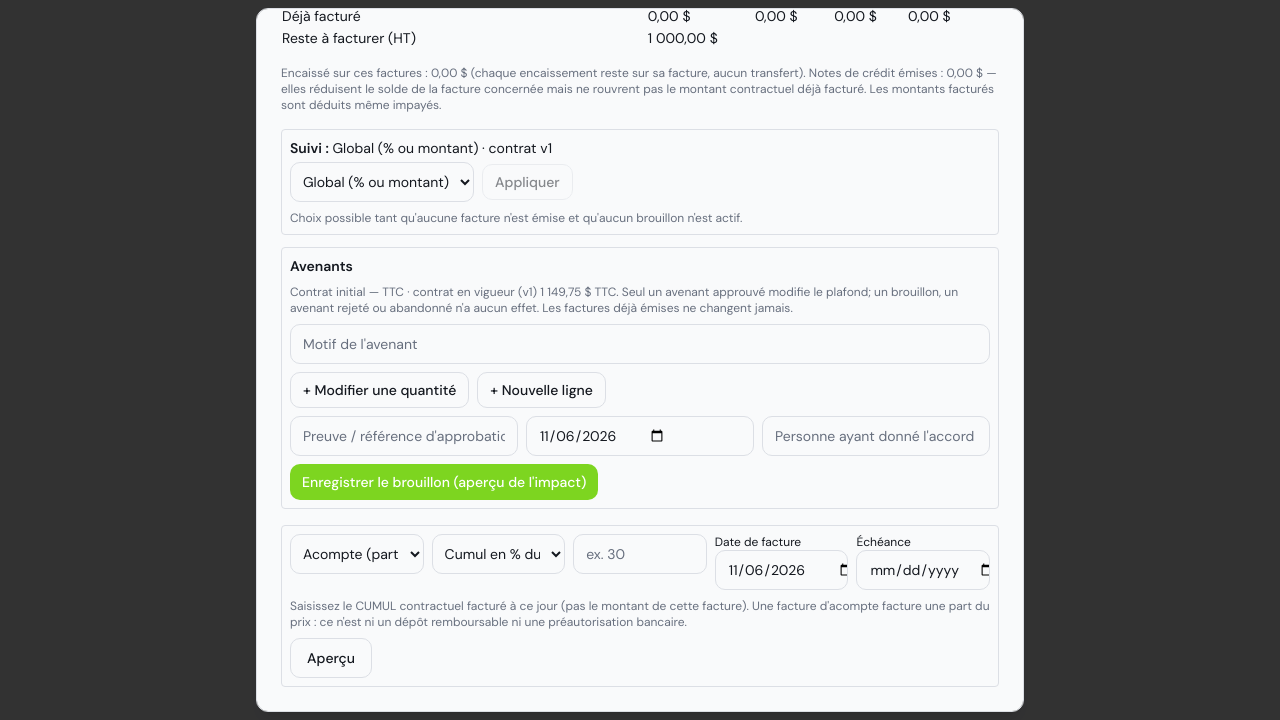
Test: FIN-09B1 — aperçu et émission › conflit P0409 : message, aperçu retiré, aucune émission automatique
The image size is (1280, 720).
(page scrolled)
Type "30" into the field named "Cumul contractuel" at (640, 554), box [573,534,707,574]
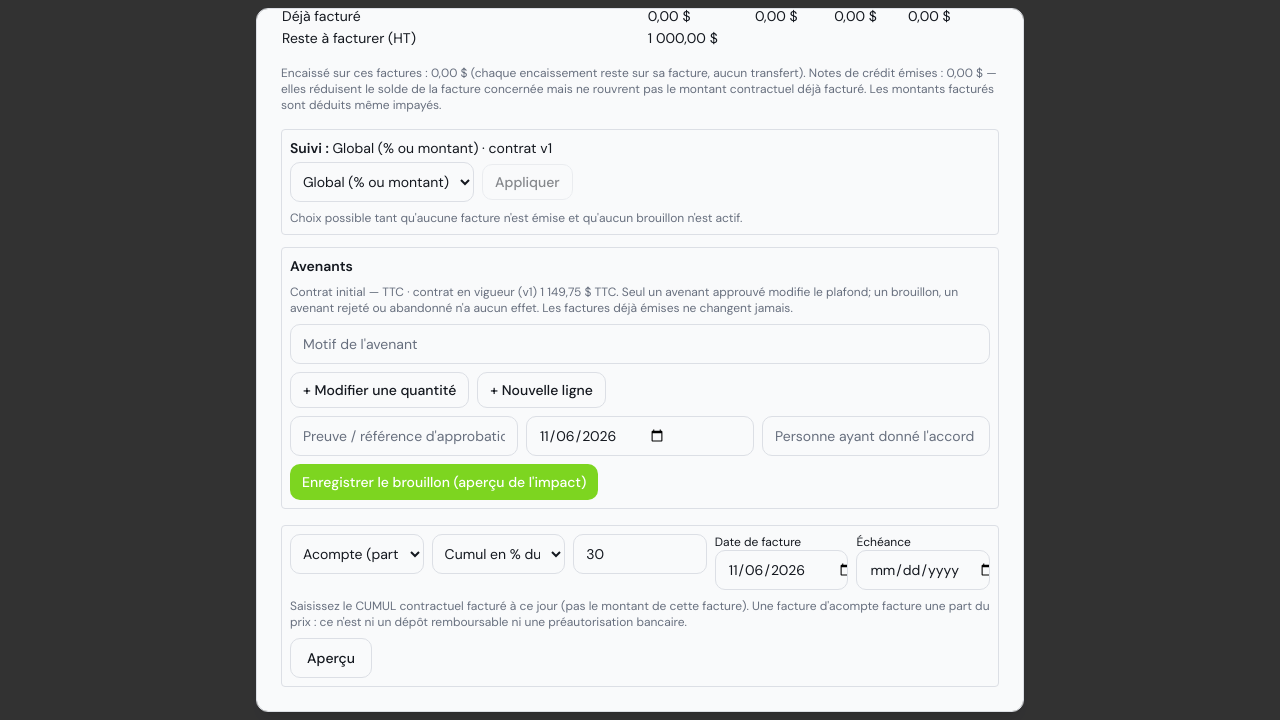
Click the button "Aperçu" at (331, 658), box [290,638,372,678]
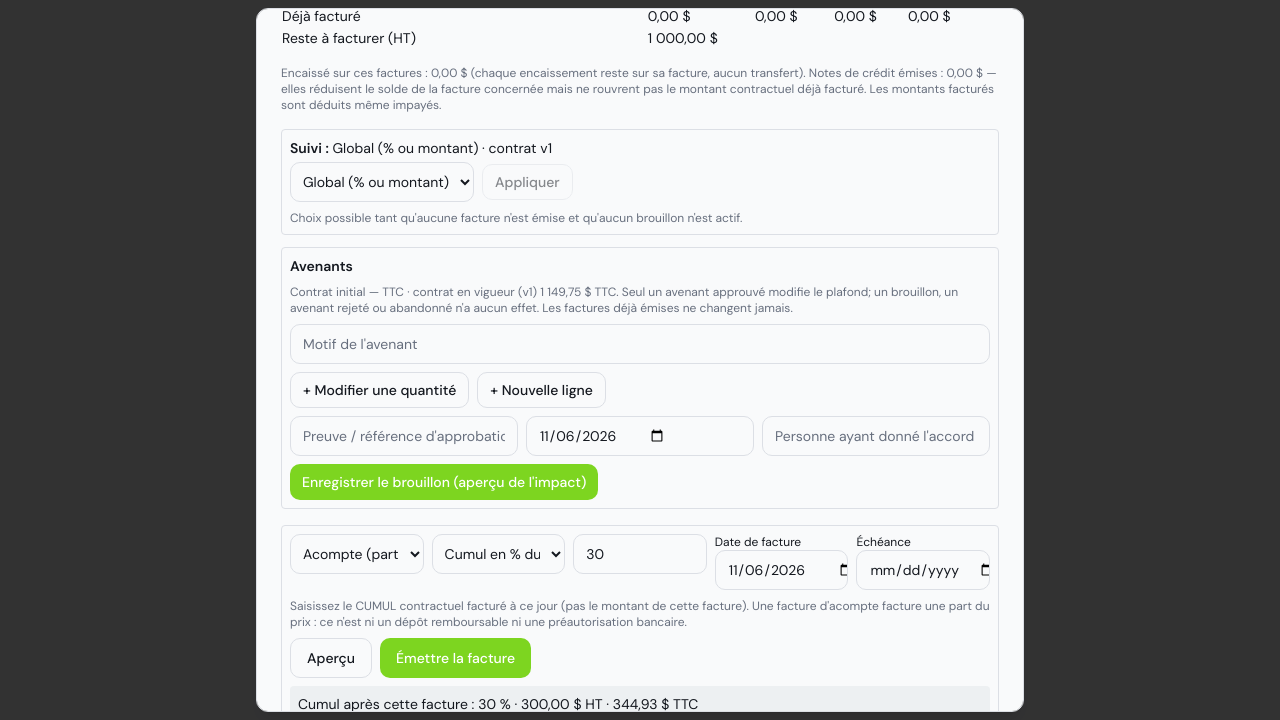
Click the button "Émettre la facture" at (456, 658), box [380,638,531,678]
(page scrolled)
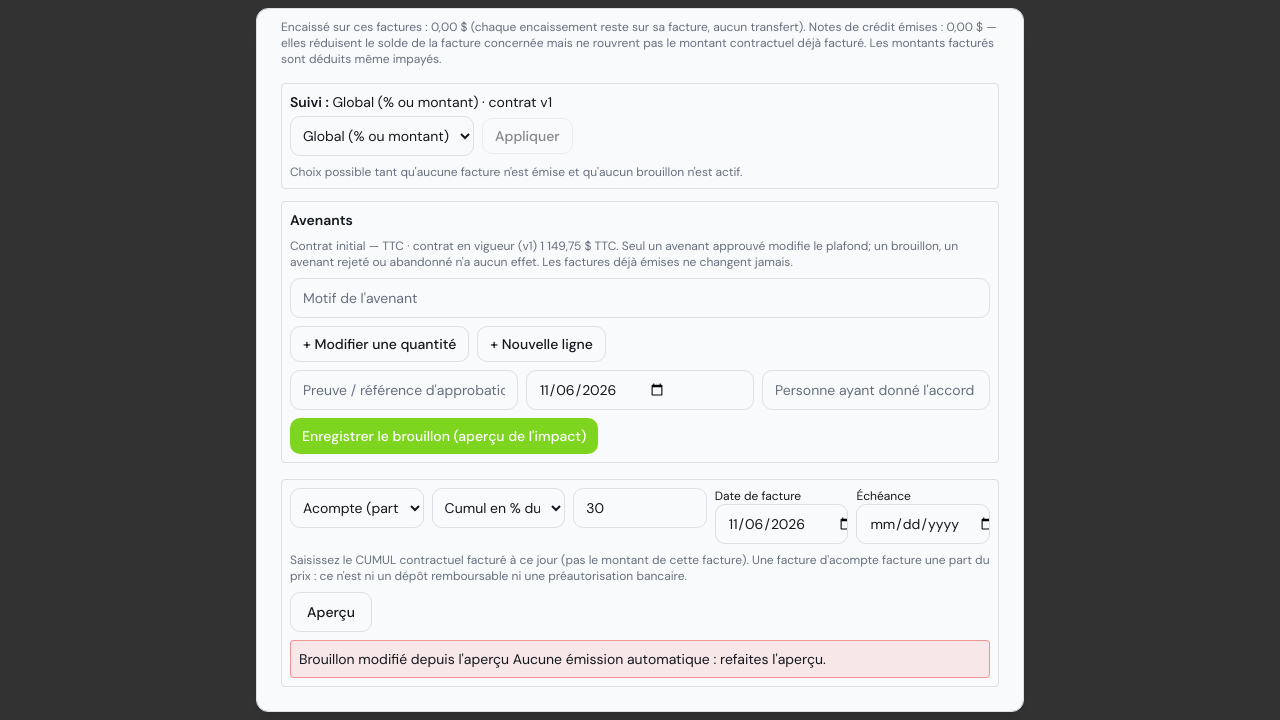
Now the text "Aucune émission automatique" is shown, box [299,650,826,668]
Now the button "Émettre la facture" is gone
